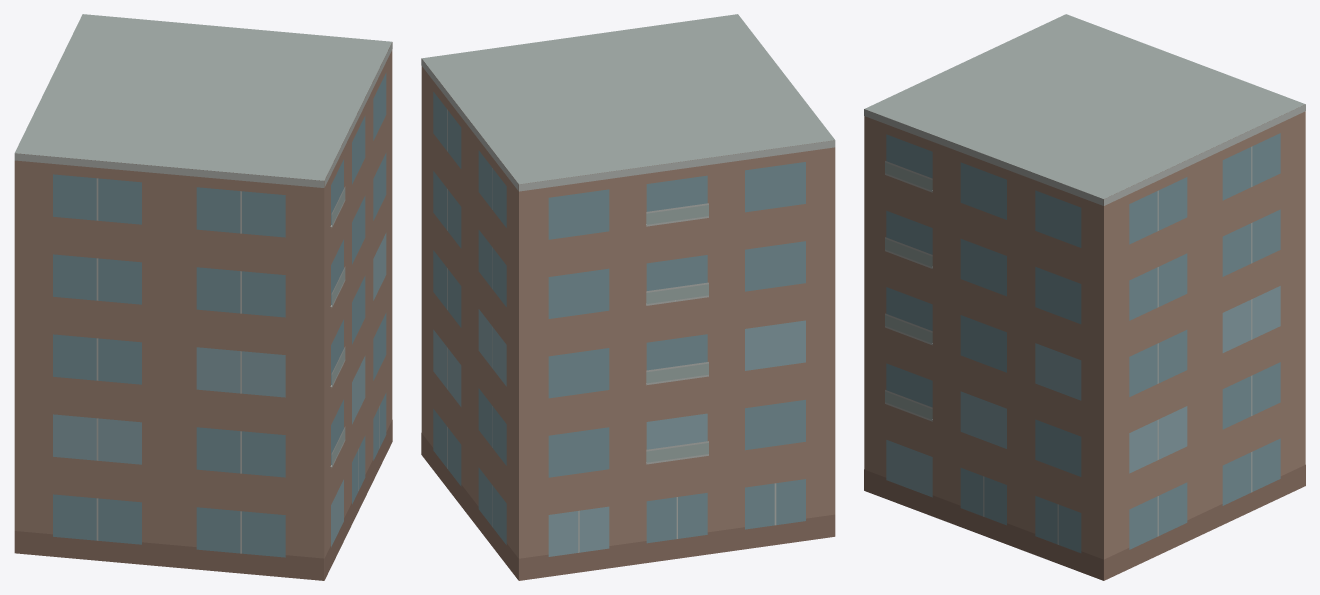
File: survey-upis-32712312.glb
3 views of the same model, side by side, from view 1: azimuth 30°, elevation 25°; view 2: azimuth 150°, elevation 25°; view 3: azimuth 270°, elevation 25° (orthographic). The views are drawn at different scales.
Visible parts, largest first — view 1: survey-upis-32712312.tmp; view 2: survey-upis-32712312.tmp; view 3: survey-upis-32712312.tmp.
Boxes of the visible parts, <box> form: survey-upis-32712312.tmp: <box>14,14,392,580</box>; survey-upis-32712312.tmp: <box>421,14,835,580</box>; survey-upis-32712312.tmp: <box>864,14,1305,580</box>.
Size of the model in its own units: 13.95 by 13.4 by 14.06.
